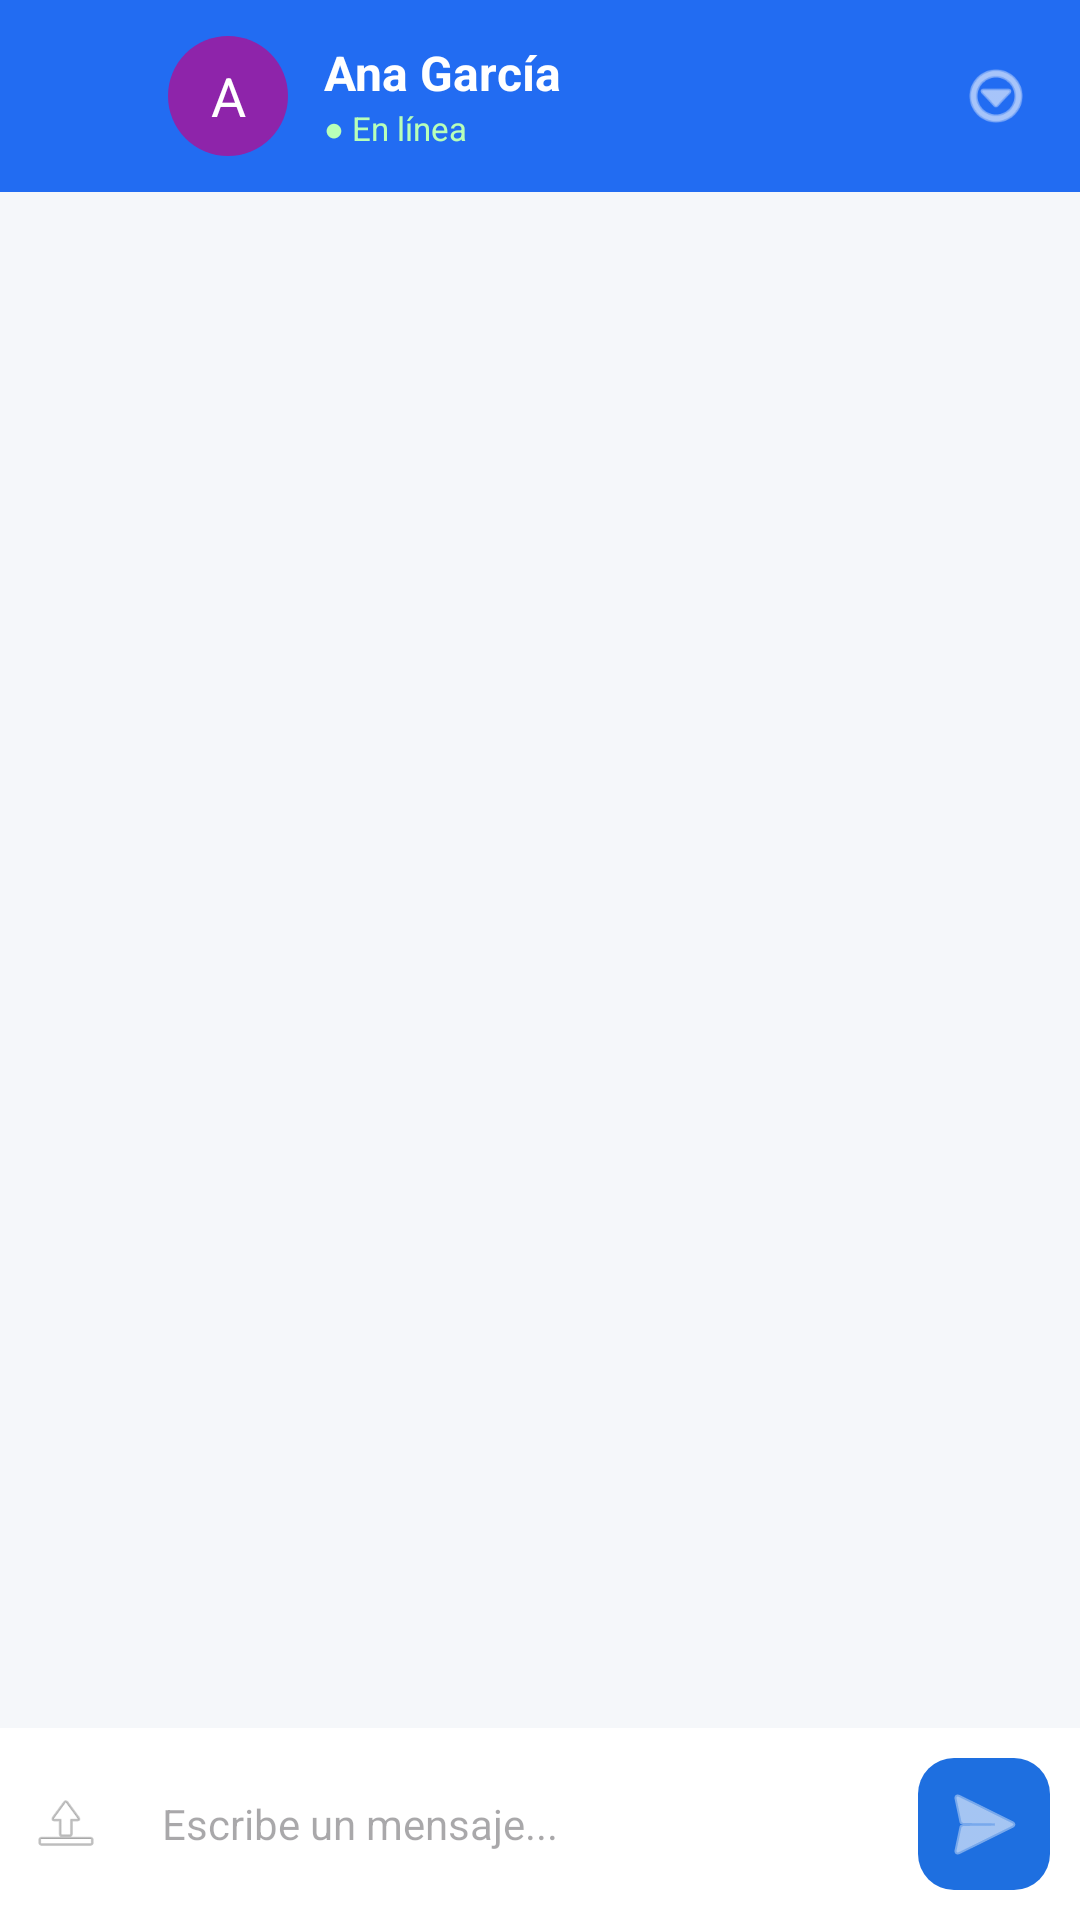

Icons on this 1080 x 1920 Android screen, each with the point to tap as point (x, y):
more: point (996, 96)
send: point (984, 1824)
upload: point (66, 1823)
